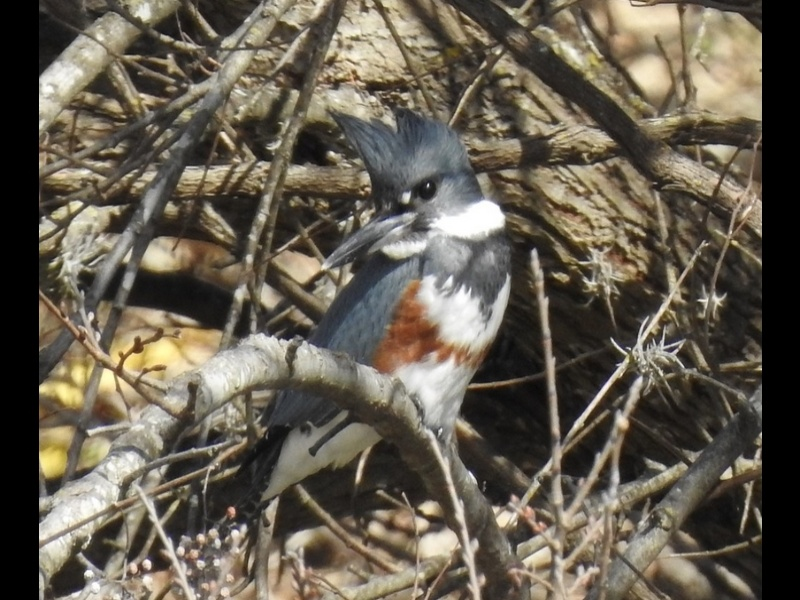kingfisher: (251, 104, 516, 516)
